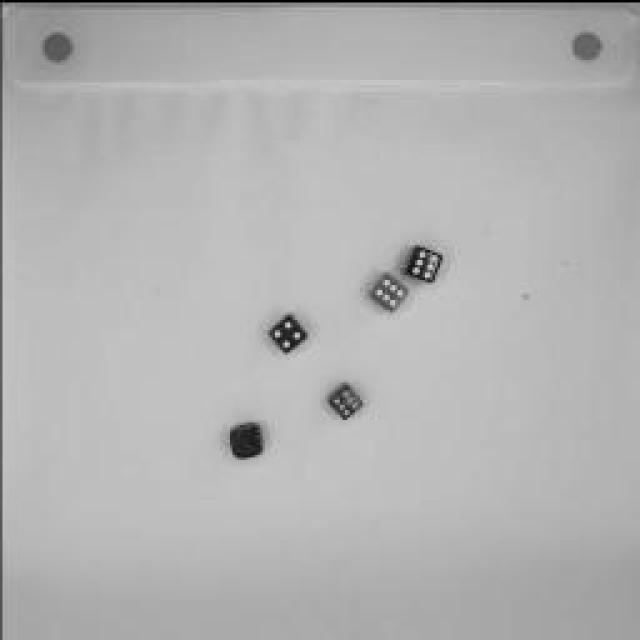dice_3: (225, 416, 273, 462)
dice_4: (268, 308, 308, 352)
dice_6: (400, 238, 445, 282), (369, 274, 409, 311), (328, 379, 362, 419)
